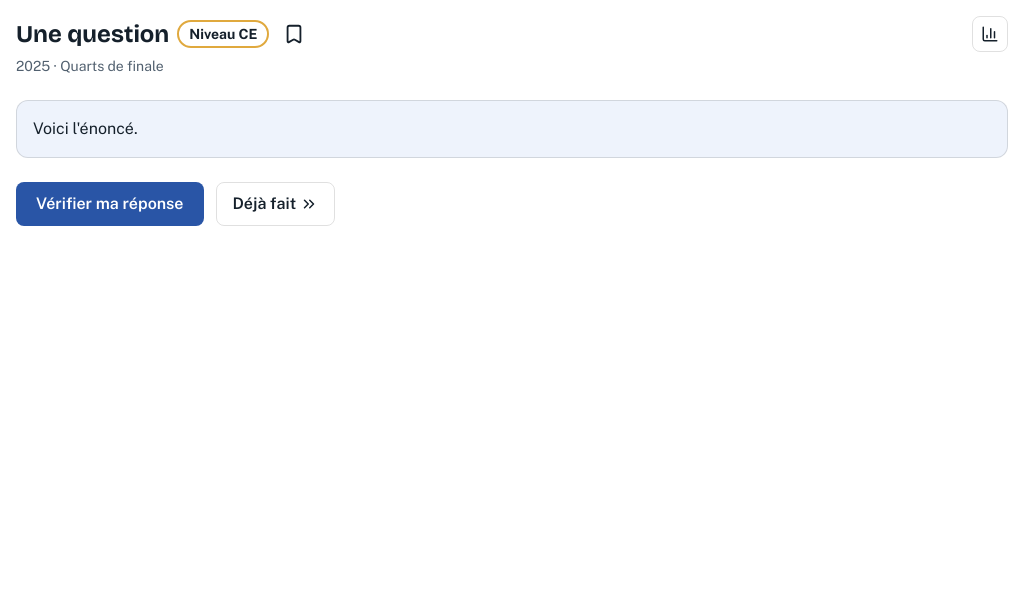
it: TrainingQuestionPage — standard flow › 'J'avais trouvé' records a found outcome and draws the next question
Expected: the text "Voici l'énoncé." is shown, [33,119,138,138]
Click the button "Vérifier ma réponse" at (110, 204), box [16,182,204,226]
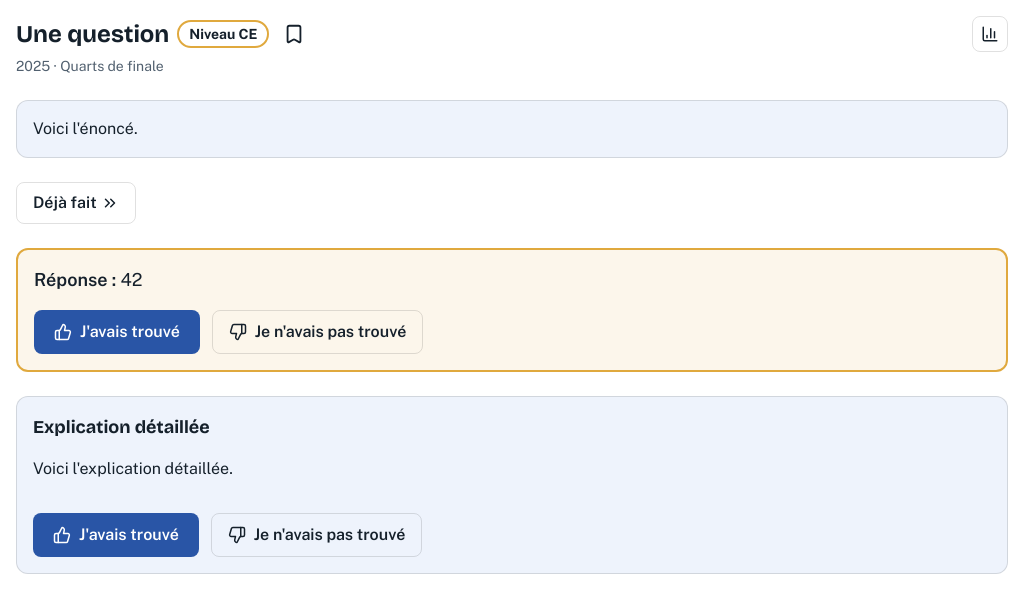
Click the button "J'avais trouvé" below "Réponse :" at (117, 332), box [34,310,200,354]
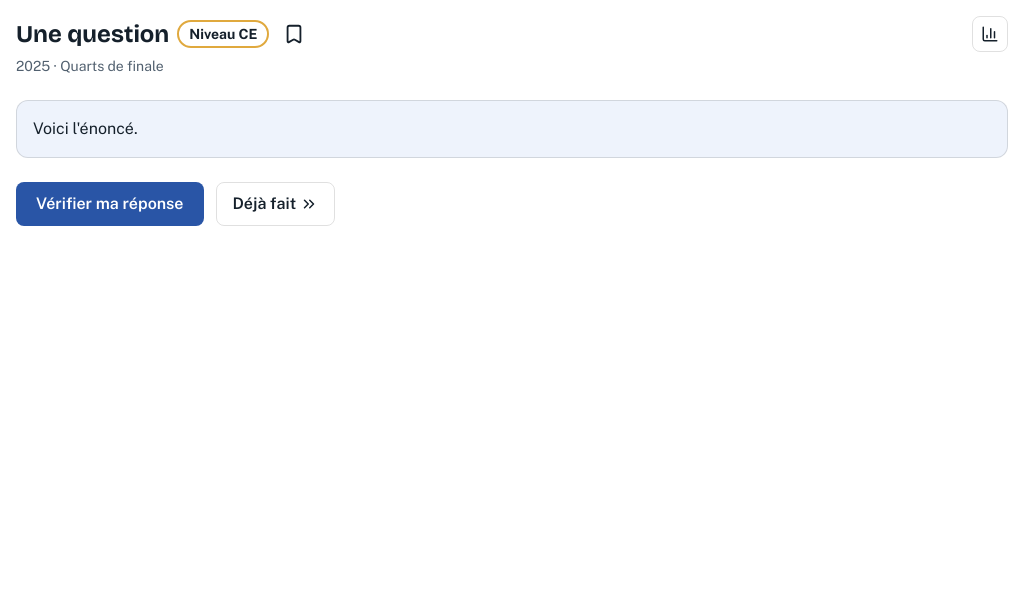
Now the text "Réponse :" is gone
